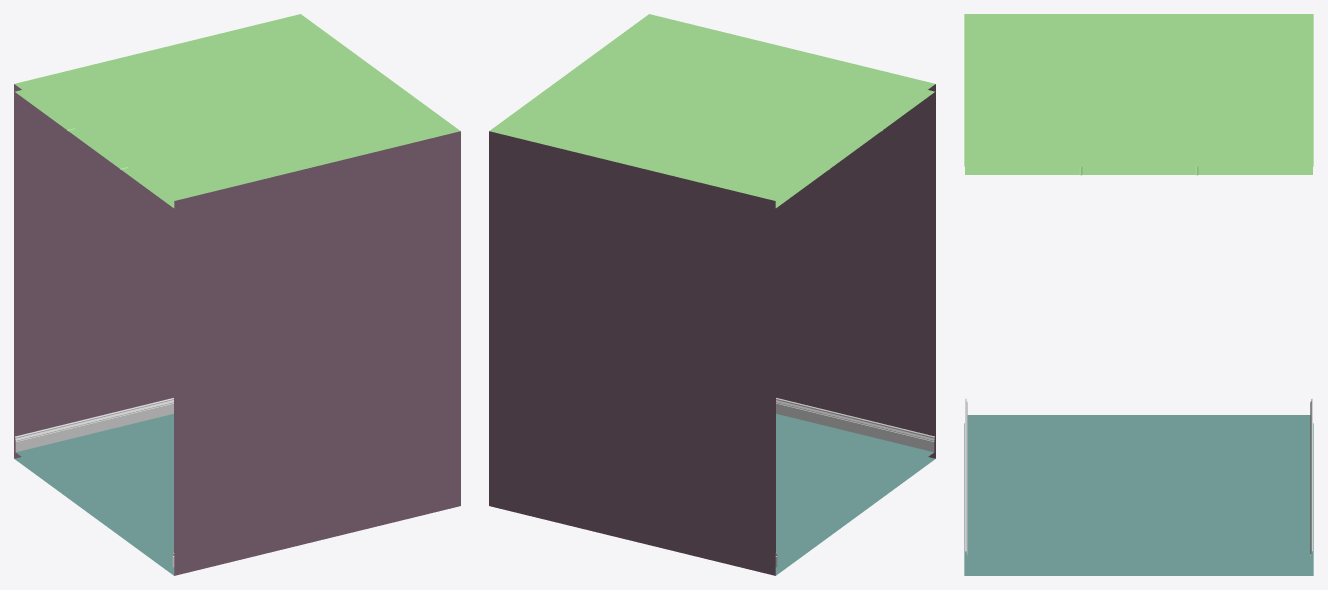
Rendered from Corridor_no_doors_w_light.fbx.
The picture shows the model from 3 angles, left to right: view 1: azimuth 30°, elevation 25°; view 2: azimuth 150°, elevation 25°; view 3: azimuth 270°, elevation 25°; orthographic projection. The views are drawn at different scales.
Parts seen in each view (by area): view 1: Corridor_no_doors_w_light; view 2: Corridor_no_doors_w_light; view 3: Corridor_no_doors_w_light.
Boxes of the visible parts, x1,y1,x2,y2 form: Corridor_no_doors_w_light: (14, 14, 460, 575); Corridor_no_doors_w_light: (489, 14, 935, 575); Corridor_no_doors_w_light: (964, 14, 1313, 575).
Bounding box in the file's own units: 2 × 2.5 × 1.94.
